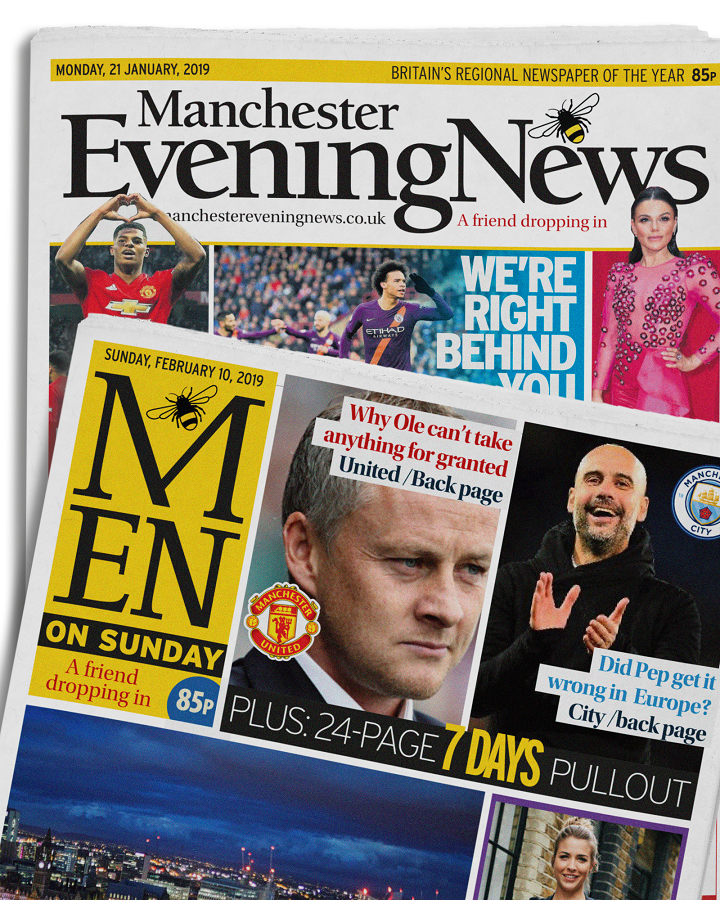news_paper: (13, 1, 720, 710), (1, 309, 711, 896)
